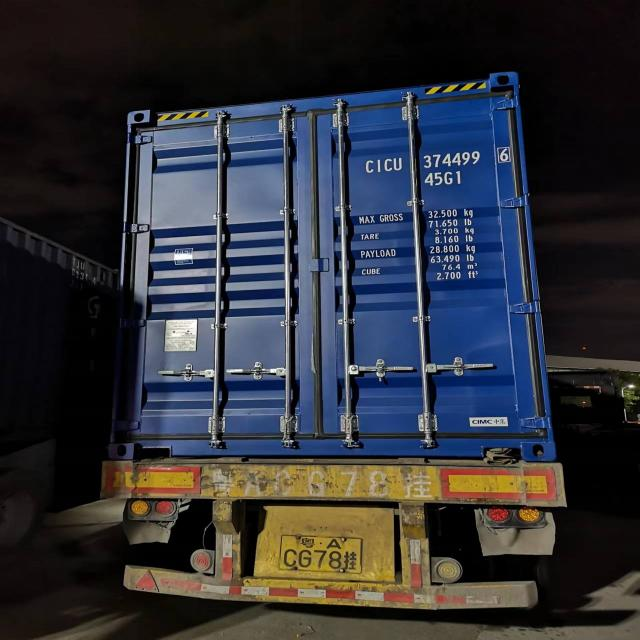seal: (371, 355, 392, 387)
